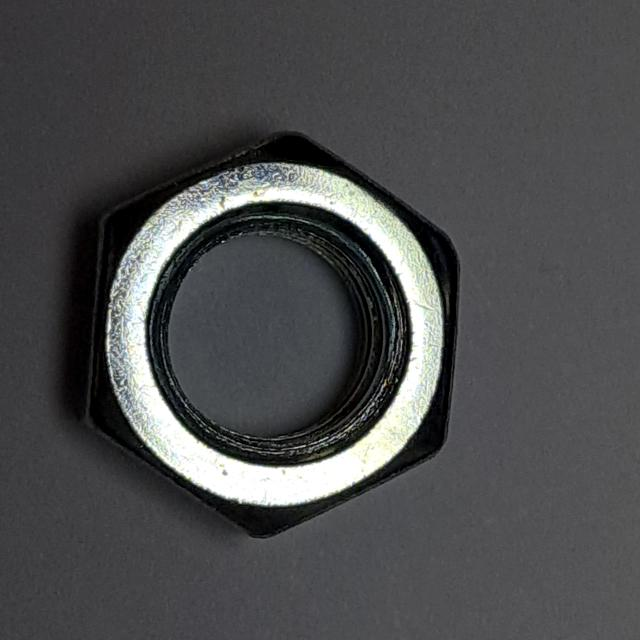Excellent: (71, 121, 471, 552)
